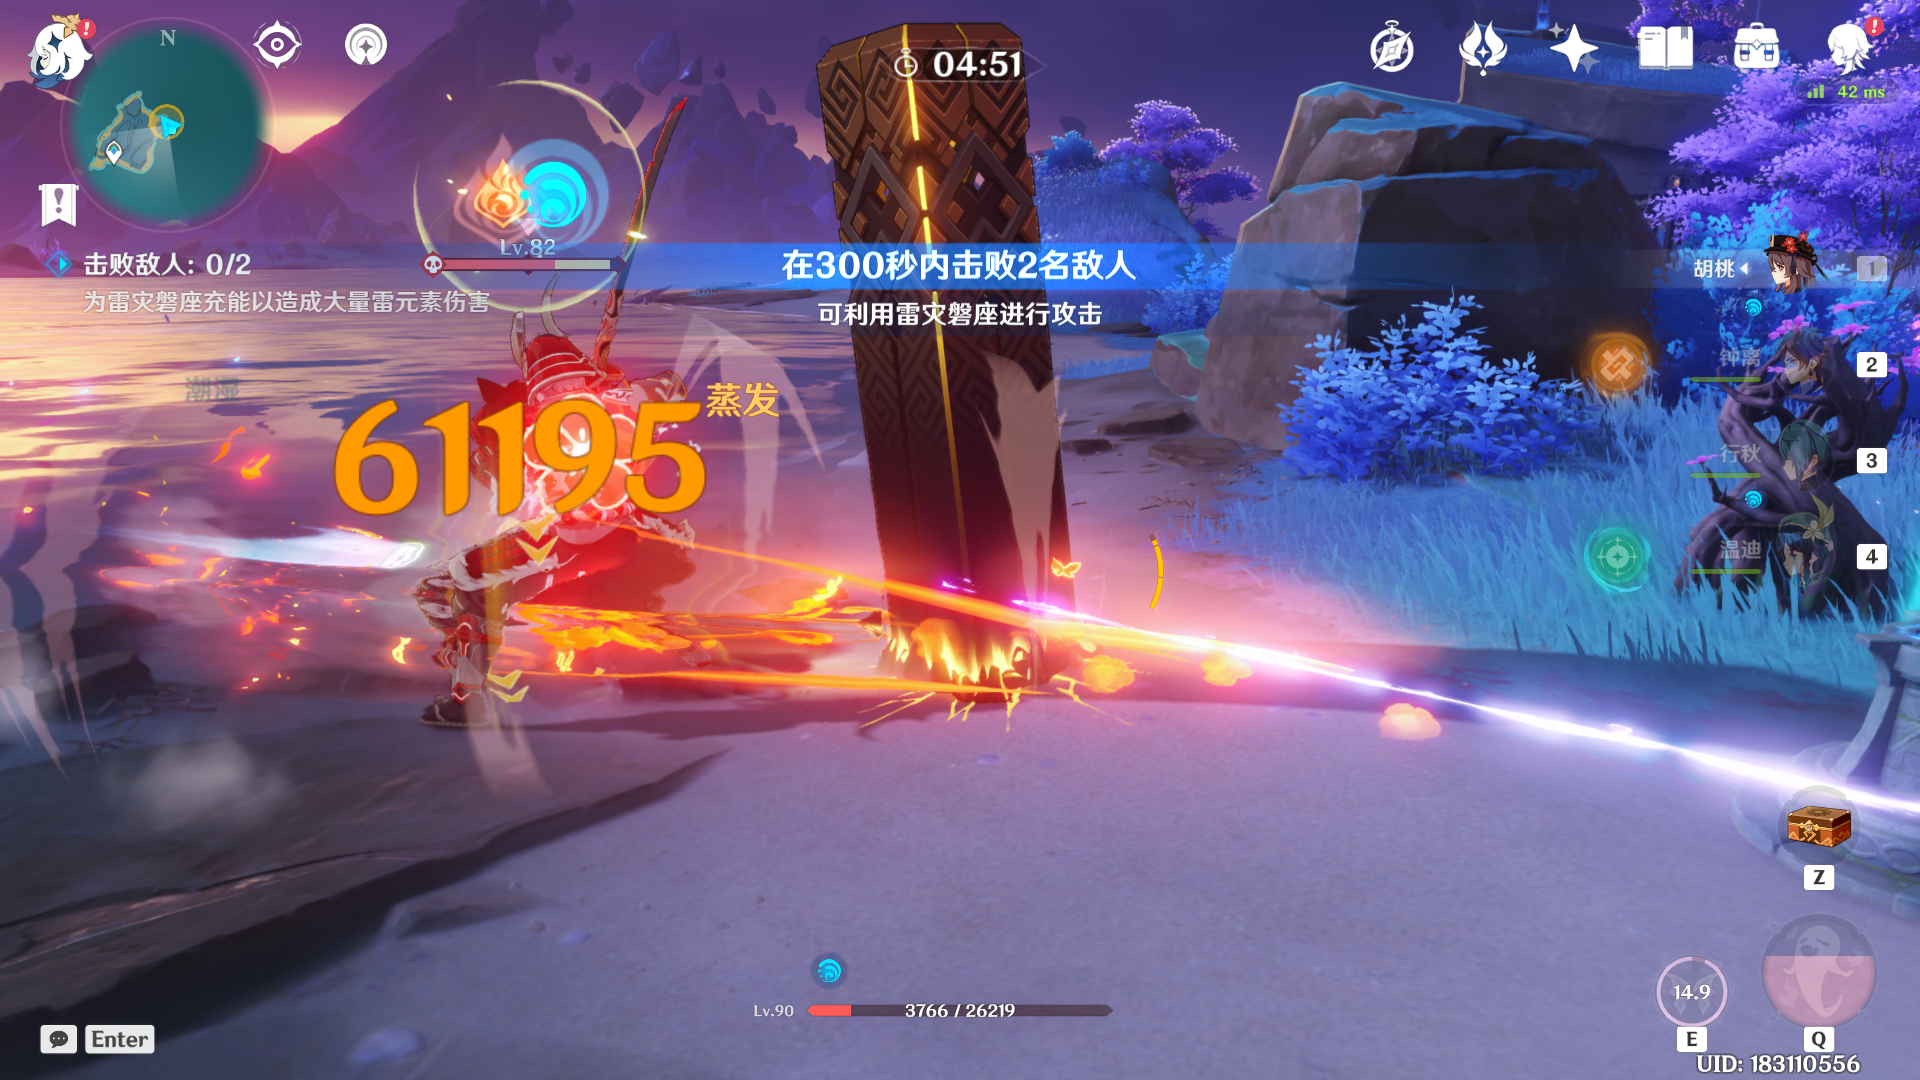samurai: (386, 237, 762, 764)
